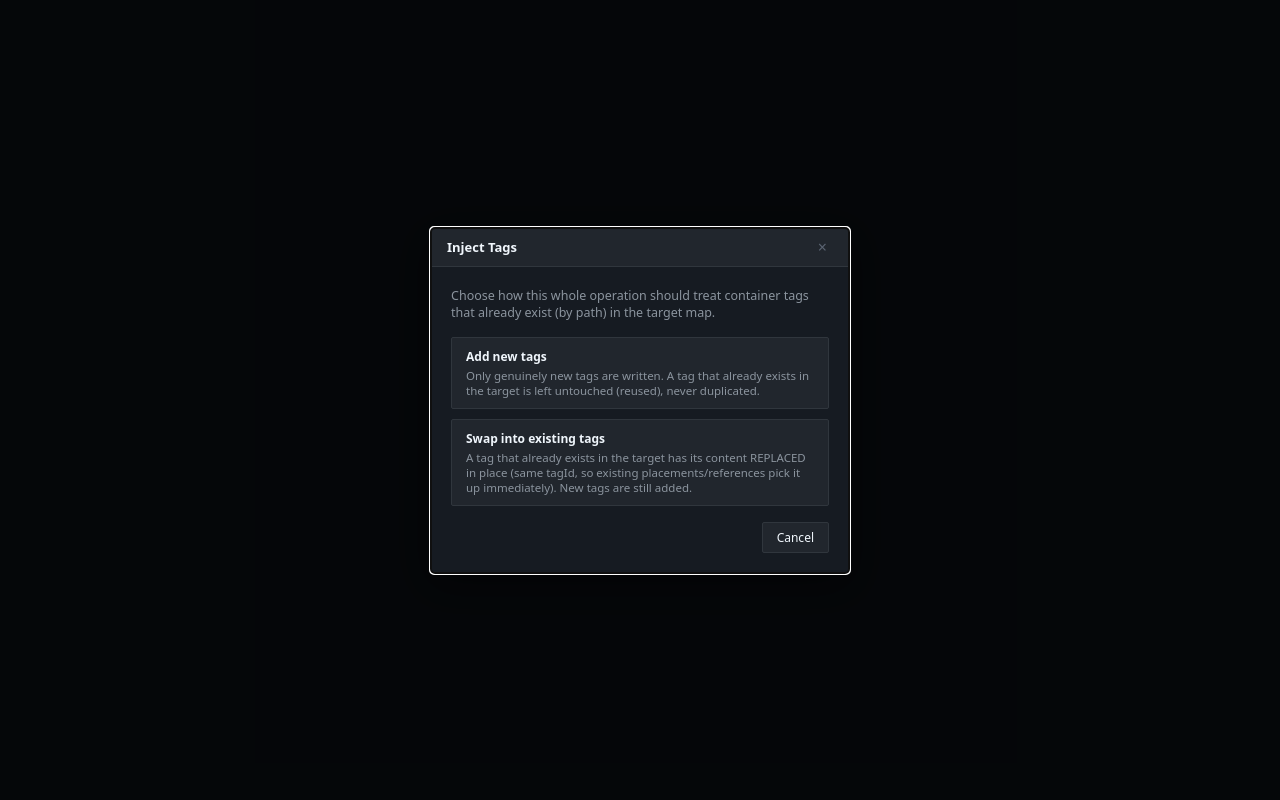
Test: InjectDialog (in-memory inject) › applies multiple .ocetags containers sequentially and reports the batched totals at the end
Click the button with test id "inject-mode-add": (640, 372) [451, 336, 829, 408]
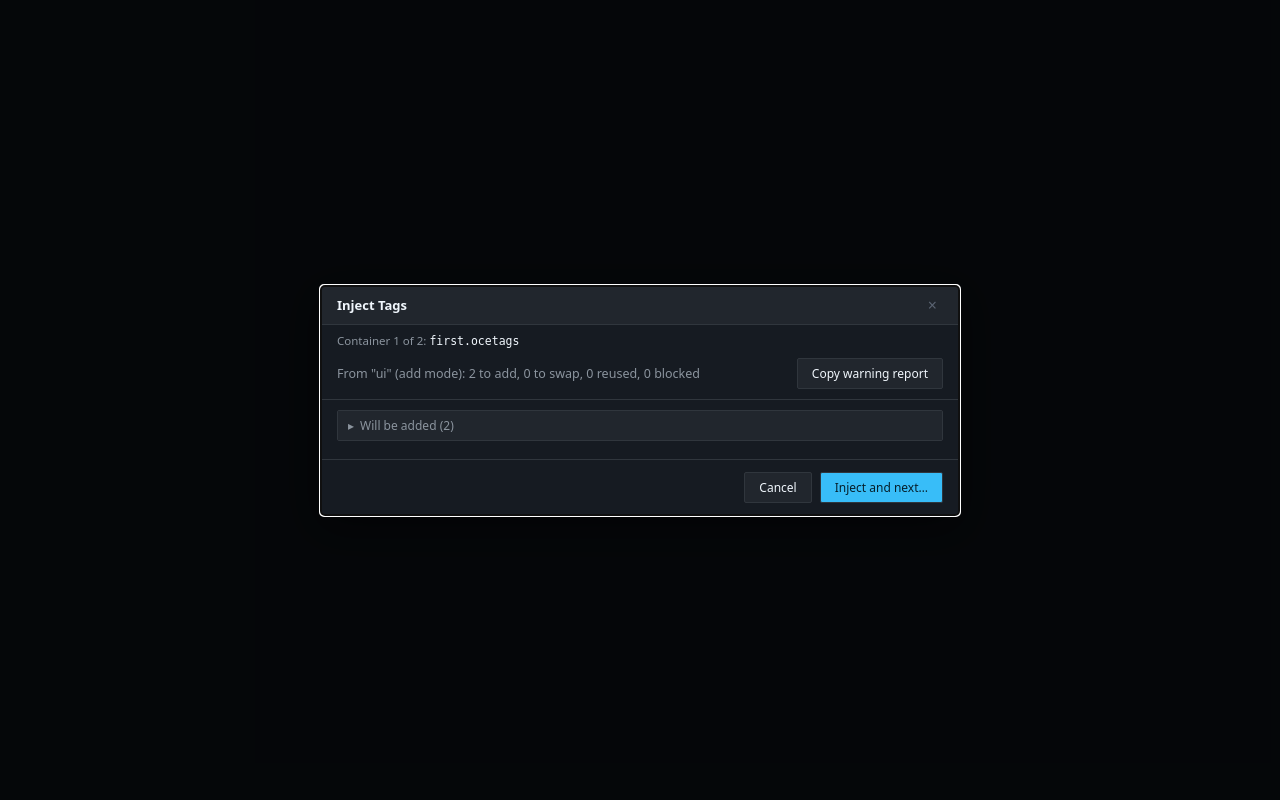
Now the element with test id "inject-dialog-summary" is shown, box [321, 348, 959, 400]
Now the element with test id "inject-container-step" shows "Container 1 of 2", box [337, 332, 519, 348]
Now the element with test id "inject-container-step" shows "first.ocetags", box [429, 334, 519, 348]
Click the button with test id "inject-confirm-button": (881, 487) [820, 472, 943, 502]
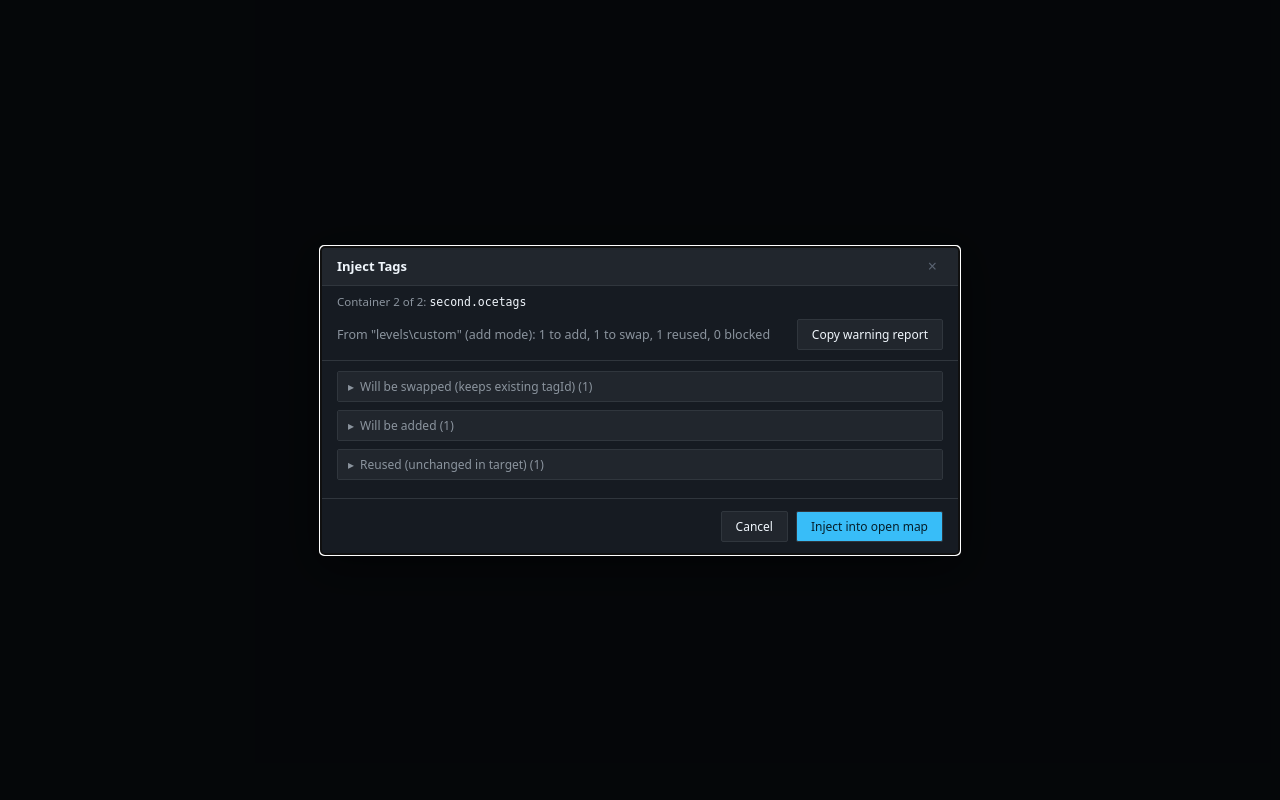
Now the element with test id "inject-container-step" shows "Container 2 of 2", box [337, 294, 526, 308]
Now the element with test id "inject-container-step" shows "second.ocetags", box [429, 294, 526, 308]
Now the button with test id "inject-confirm-button" reads "Inject into open map"
Click the button with test id "inject-confirm-button": (869, 526) [796, 510, 943, 542]
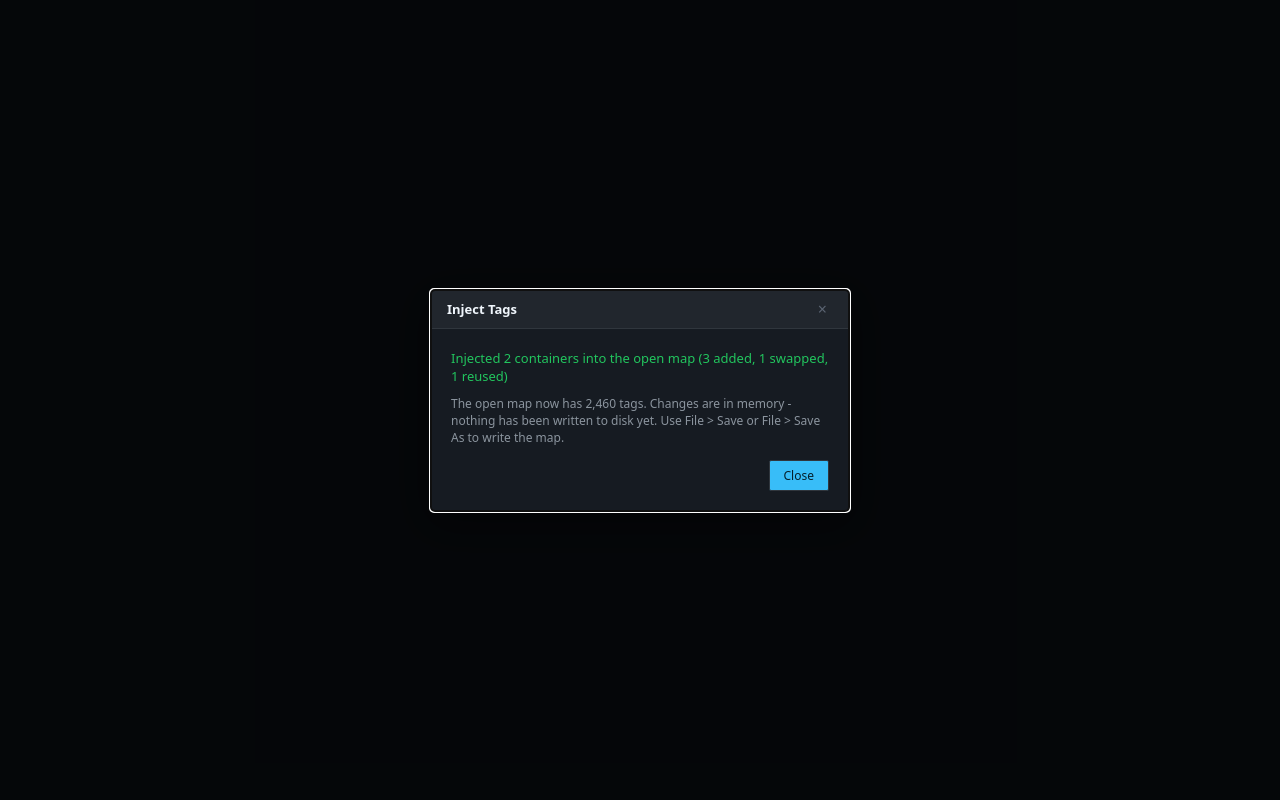
Now the element with test id "inject-result" shows "Injected 2 containers", box [451, 348, 828, 384]
Now the element with test id "inject-result" shows "3 added", box [451, 348, 828, 384]
Now the element with test id "inject-result" shows "1 swapped", box [451, 348, 828, 384]
